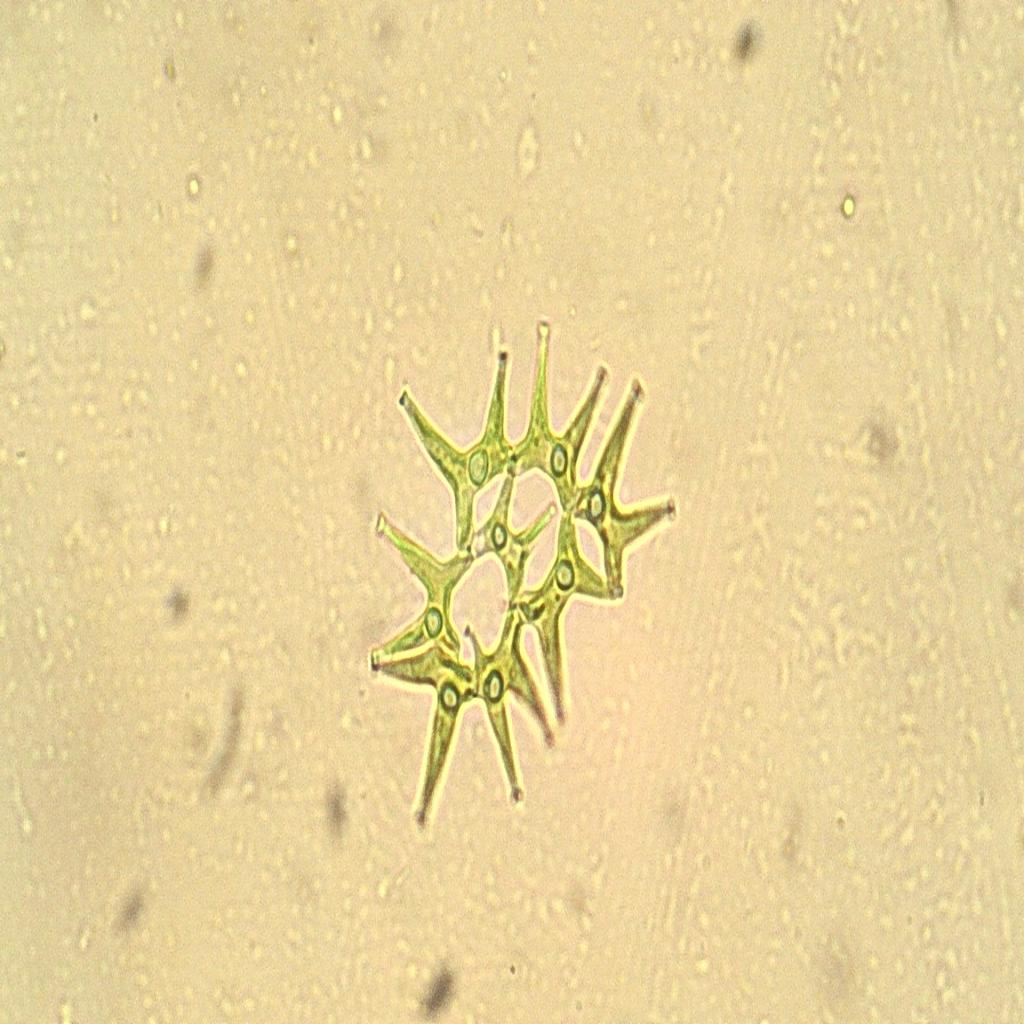Pediastrum_CFI: (349, 314, 685, 853)
